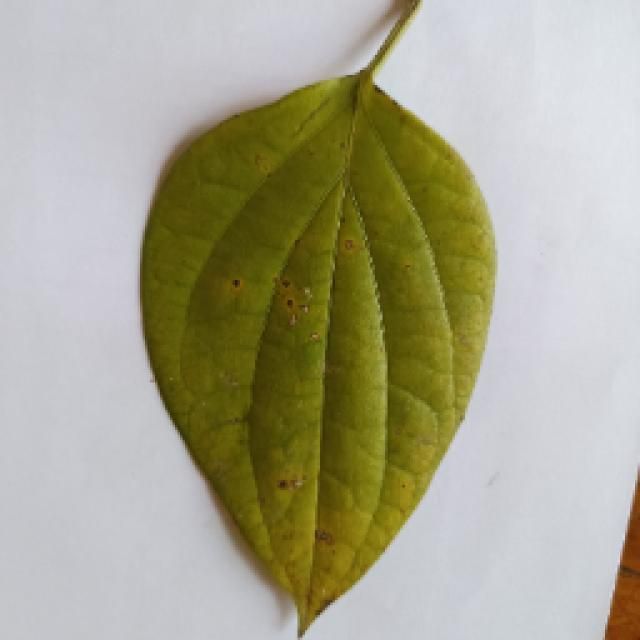slow-decline: (138, 15, 490, 630)
